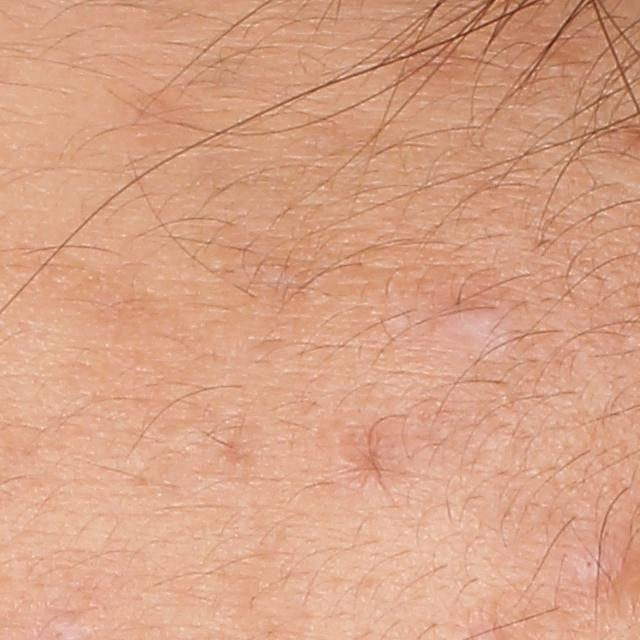hypertrophic_scar: (429, 295, 525, 345)
